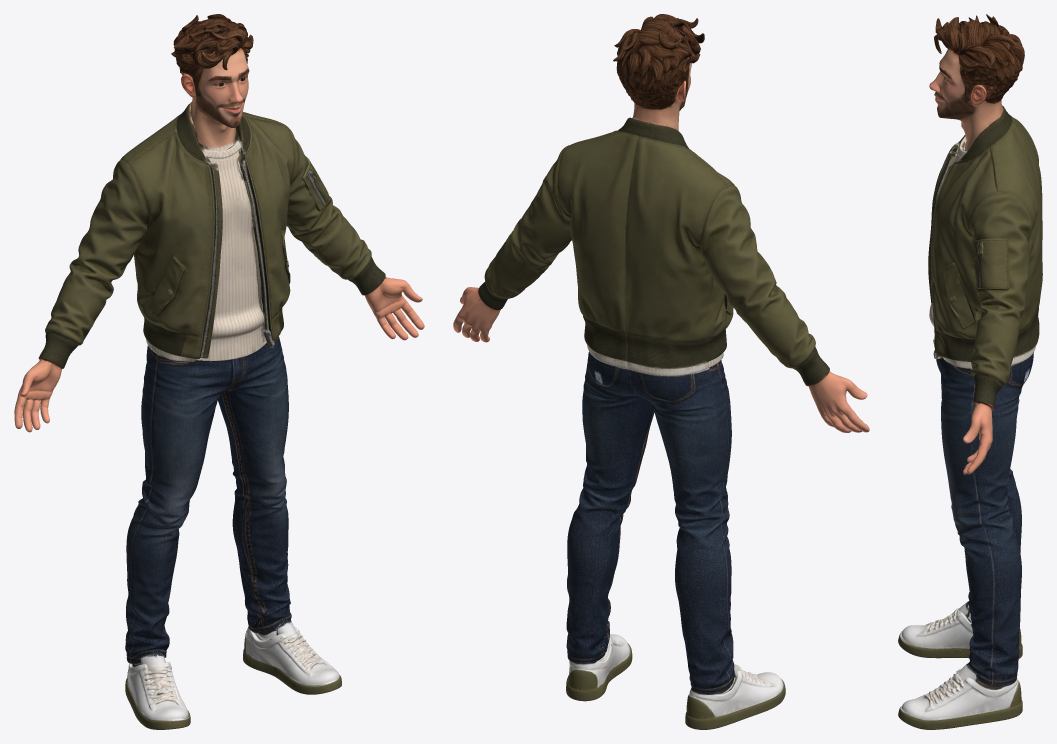
File: man.glb
3 views of the same model, side by side, from view 1: azimuth 30°, elevation 25°; view 2: azimuth 150°, elevation 25°; view 3: azimuth 270°, elevation 25° (orthographic). The views are drawn at different scales.
Parts seen in each view (by area): view 1: man; view 2: man; view 3: man.
Part boxes in pixels (x1,y1,x2,y2): man: [14, 14, 424, 729]; man: [453, 14, 869, 729]; man: [898, 14, 1042, 729].
Size of the model in its own units: 1.15 by 1.8 by 0.3561.
1 material, 1 textured.
